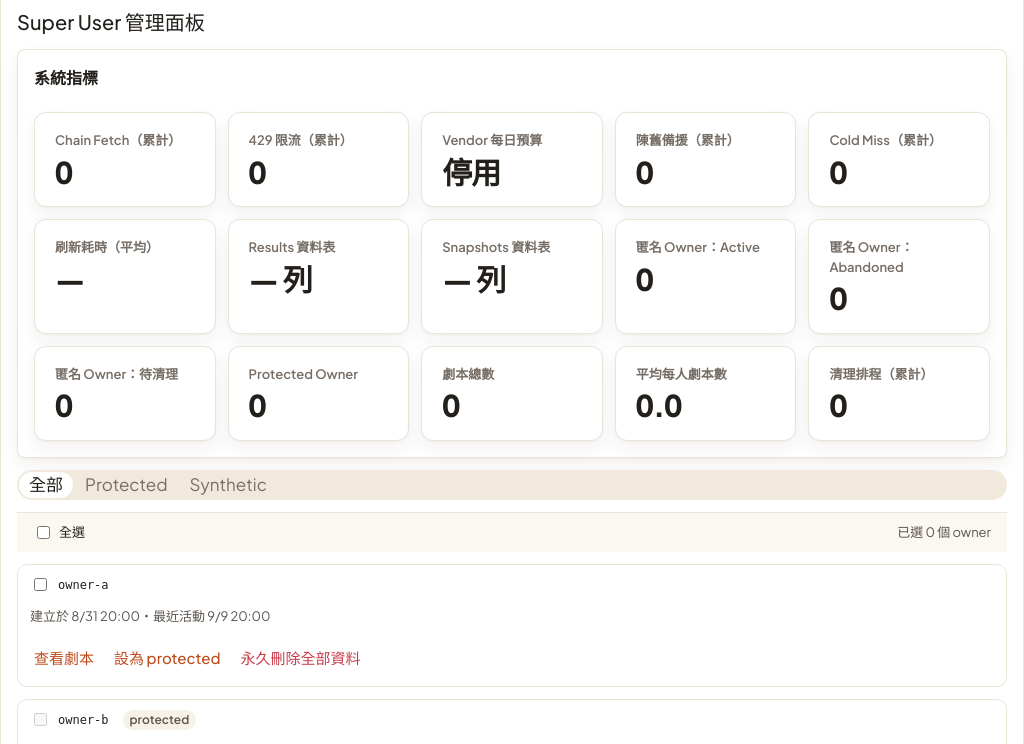
Test case: SuperUserAdmin › shows a scenario's full content only after clicking it
Expected: the text "owner-a" is shown, [58,576,109,594]
Click the button "查看劇本": {"x": 64, "y": 657} [30,639,98,676]
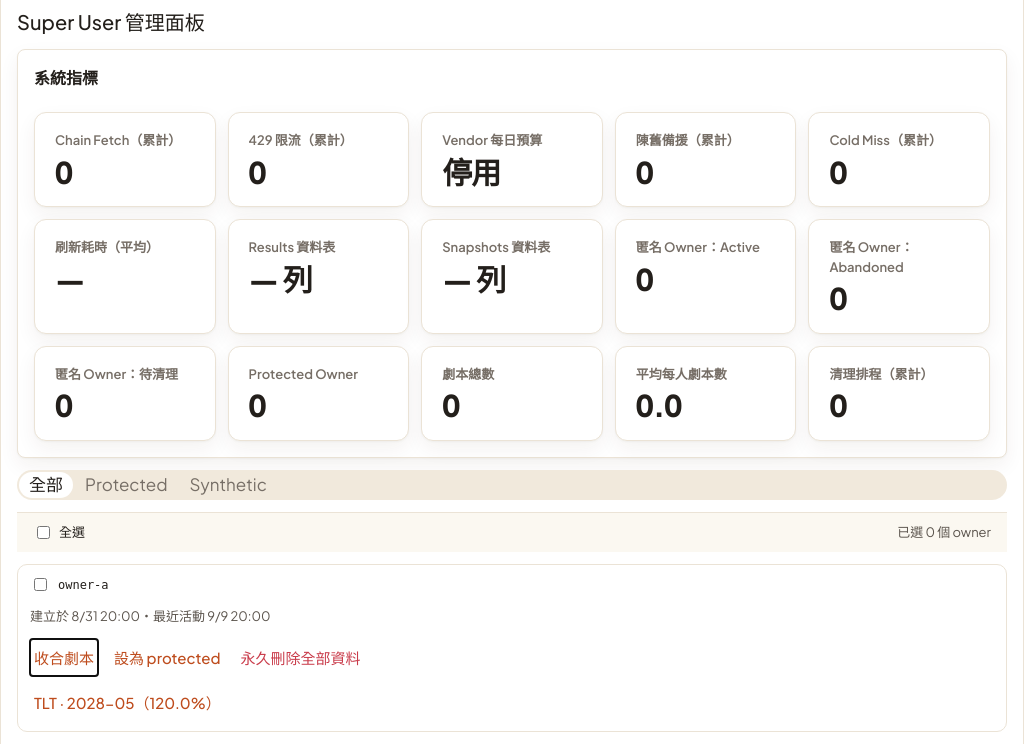
Expected: the text "full detail" is not shown
Click the button "TLT · 2028-05（120.0%）": {"x": 127, "y": 702} [30,684,225,721]
(page scrolled)
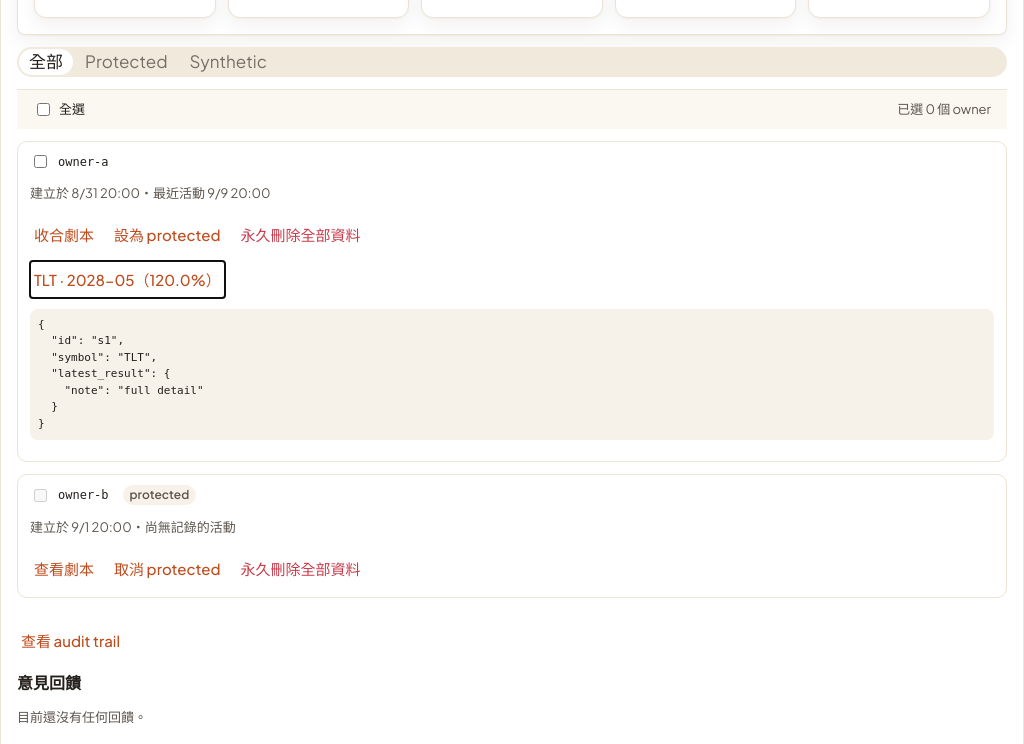
Result: the text "full detail" is shown at [38,318,204,430]
